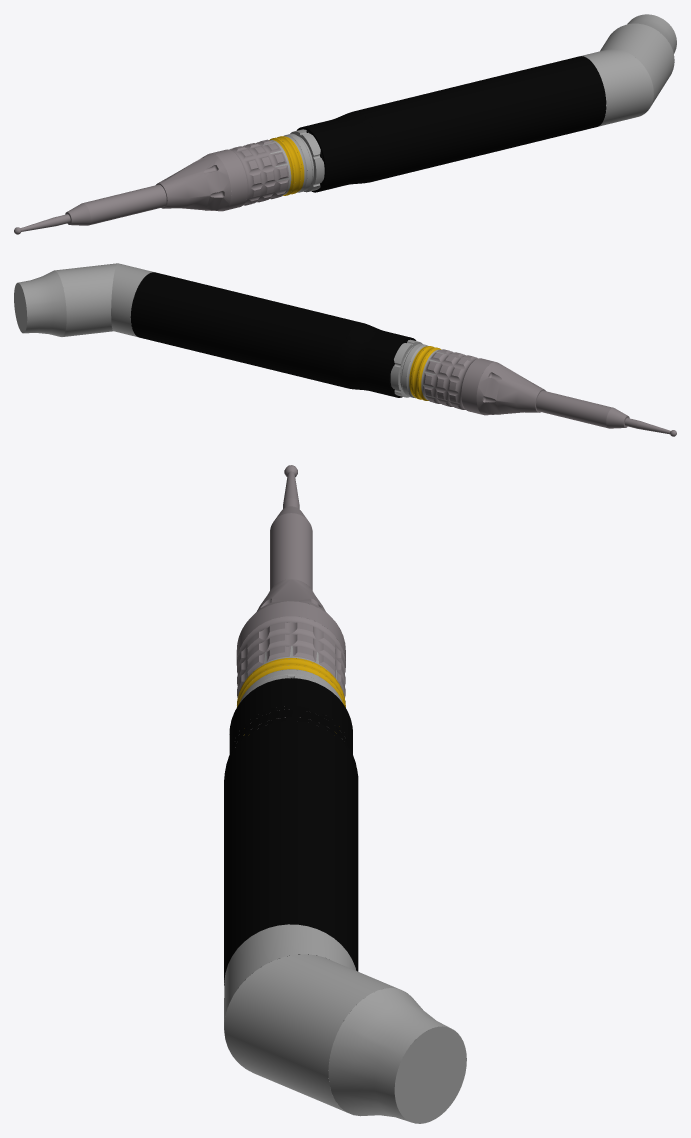
The model's file is drillMesh.obj.
The picture shows the model from 3 angles, top to bottom: view 1: azimuth 30°, elevation 25°; view 2: azimuth 150°, elevation 25°; view 3: azimuth 270°, elevation 25°; orthographic projection. The views are drawn at different scales.
Parts seen in each view (by area): view 1: driller.004; view 2: driller.004; view 3: driller.004.
Part boxes in pixels (x1,y1,x2,y2): driller.004: [14, 14, 676, 234]; driller.004: [14, 263, 676, 436]; driller.004: [224, 465, 466, 1123].
Bounding box in the file's own units: 0.2087 × 0.0191 × 0.0345.
